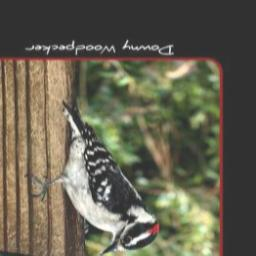Woodpecker: (21, 103, 161, 256)
